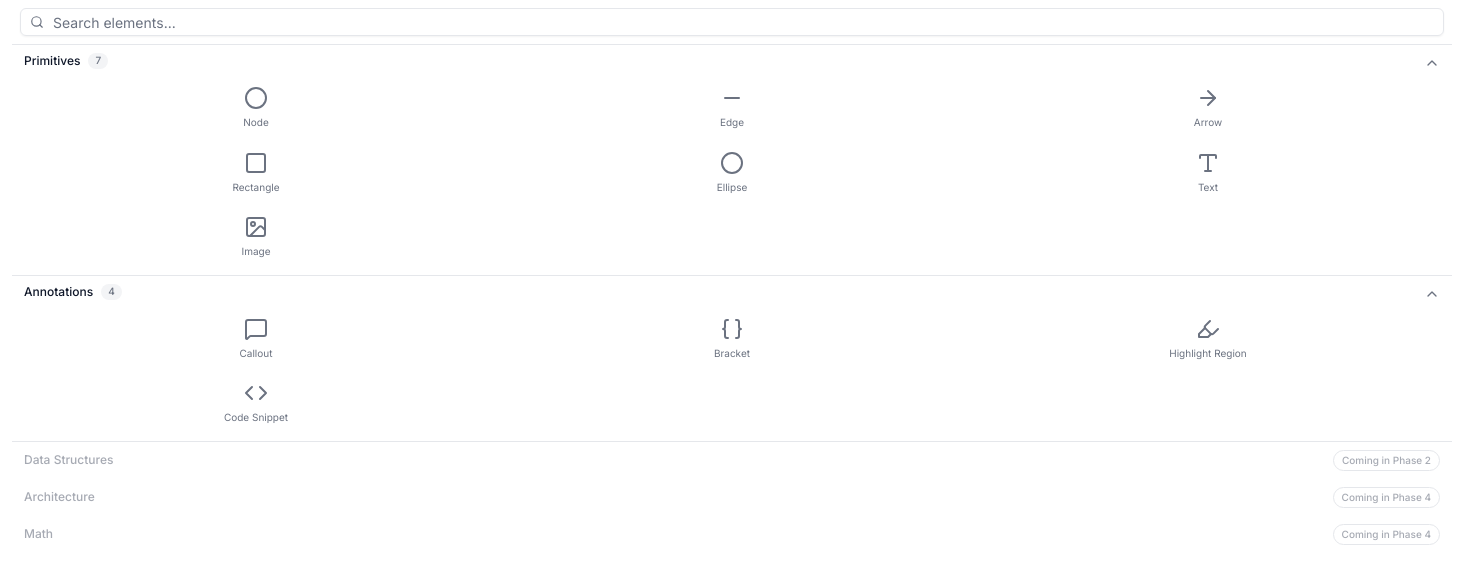
Test case: ElementLibrary › shows "No elements found" when search has no results
Type "xyznonexistent" into the field with placeholder "Search elements..." at (732, 22), box [20, 8, 1444, 36]
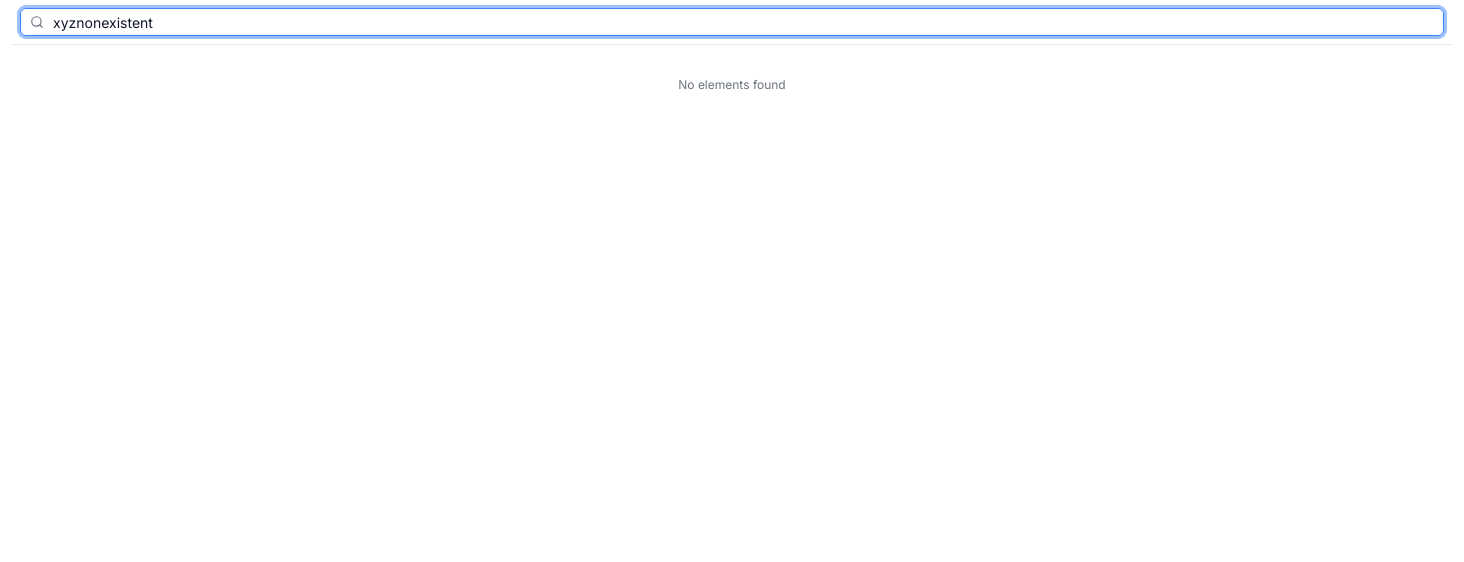
Expected: the text "No elements found" is shown, [678, 77, 786, 93]
